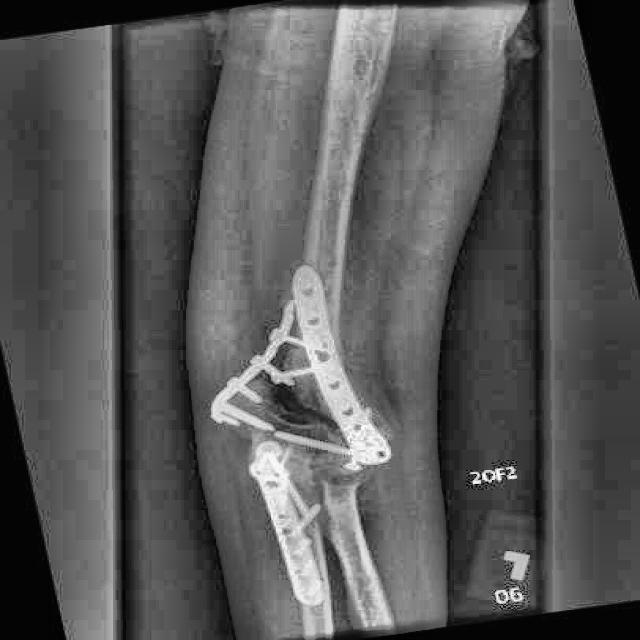elbow positive: (252, 364, 350, 452)
